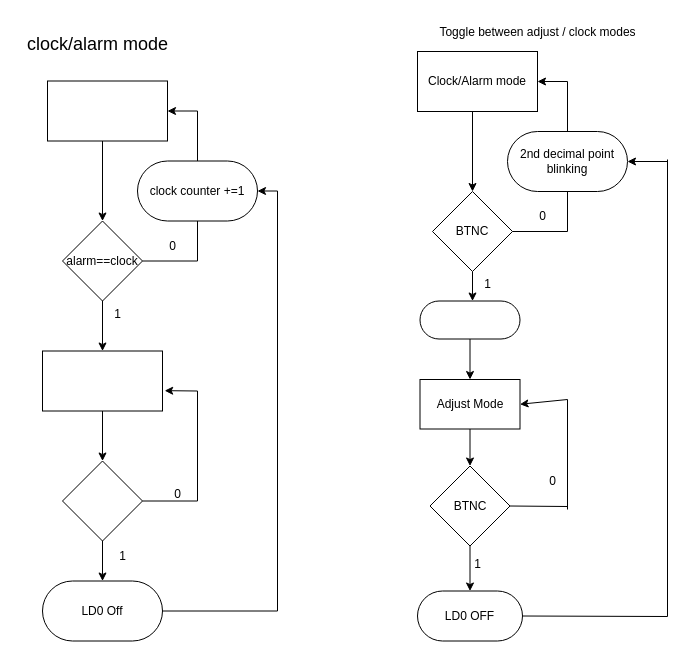
This 693x658 diagram has some shape labels left out. The centre of each missing label's shape, as x and y in pixels:
any BTN: [102,500]
clock display: [107,110]
LD0 Blinks: [102,380]
LD0 ON: [469,319]
